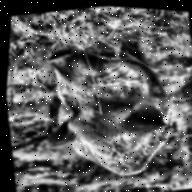boar: (25, 18, 190, 192)
